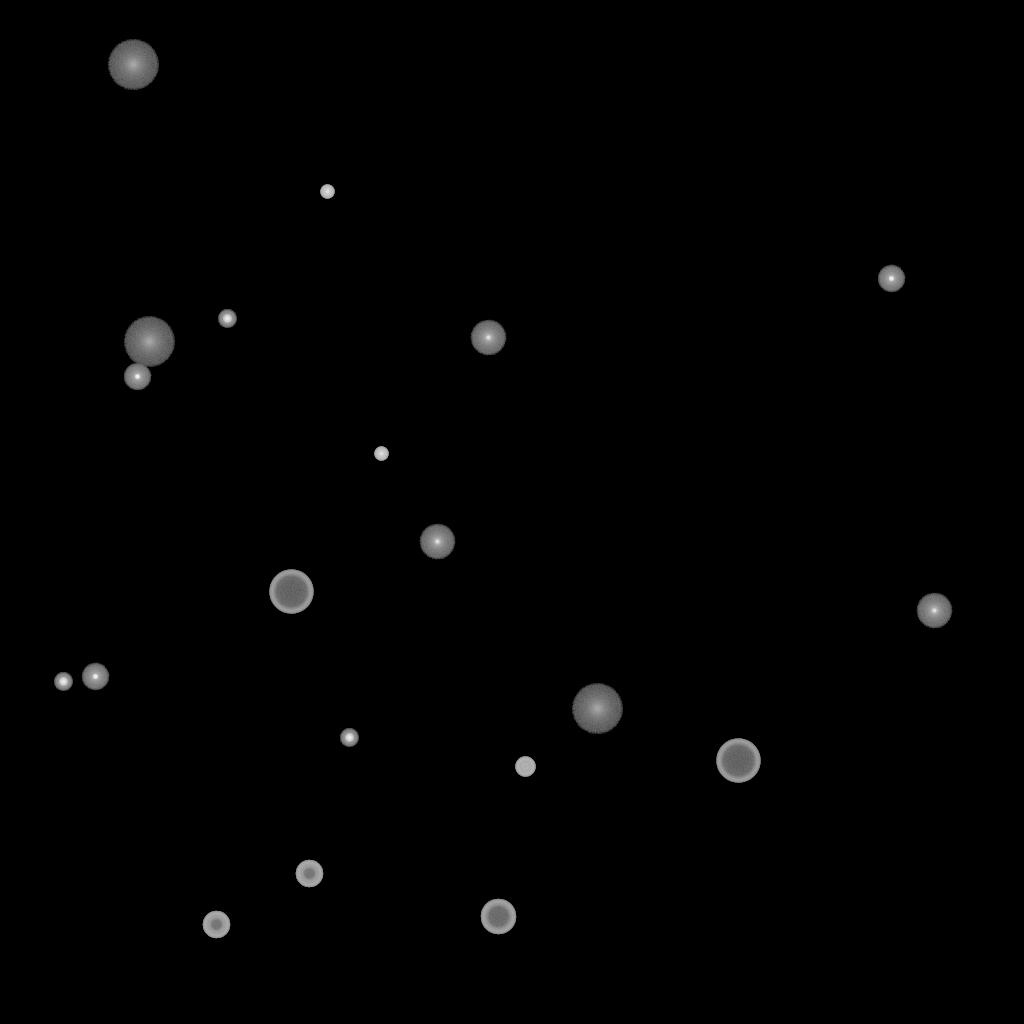depth:-10: (81, 663, 109, 691), (123, 363, 151, 391), (877, 265, 905, 293)
depth:-20: (340, 729, 358, 747), (218, 310, 236, 328), (54, 673, 72, 691)
depth:-30: (320, 185, 334, 199), (374, 447, 388, 461)
depth:-40: (515, 757, 535, 777)
depth:-50: (295, 860, 323, 888), (202, 911, 230, 939)
depth:-60: (480, 899, 516, 935)
depth:-70: (716, 739, 760, 783), (269, 570, 313, 614)
depth:0: (419, 524, 455, 560), (470, 320, 506, 356), (916, 593, 952, 629)
depth:20: (571, 684, 623, 734), (107, 40, 159, 90), (123, 317, 175, 367)
